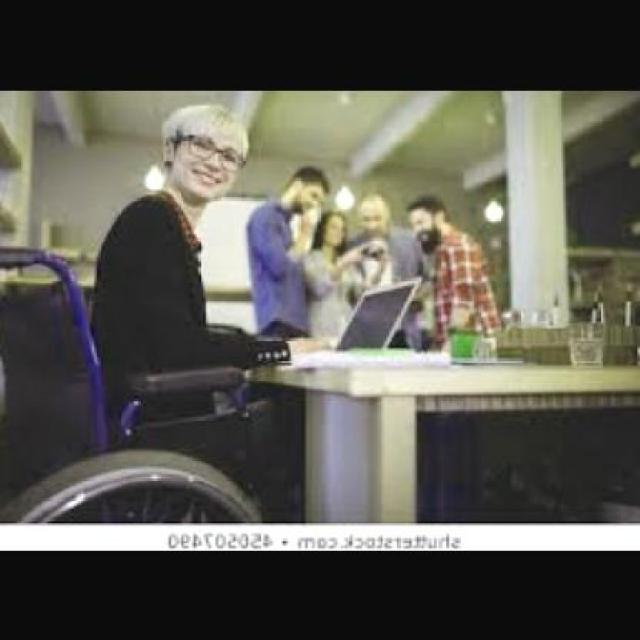wheelchairs: (0, 240, 308, 525)
